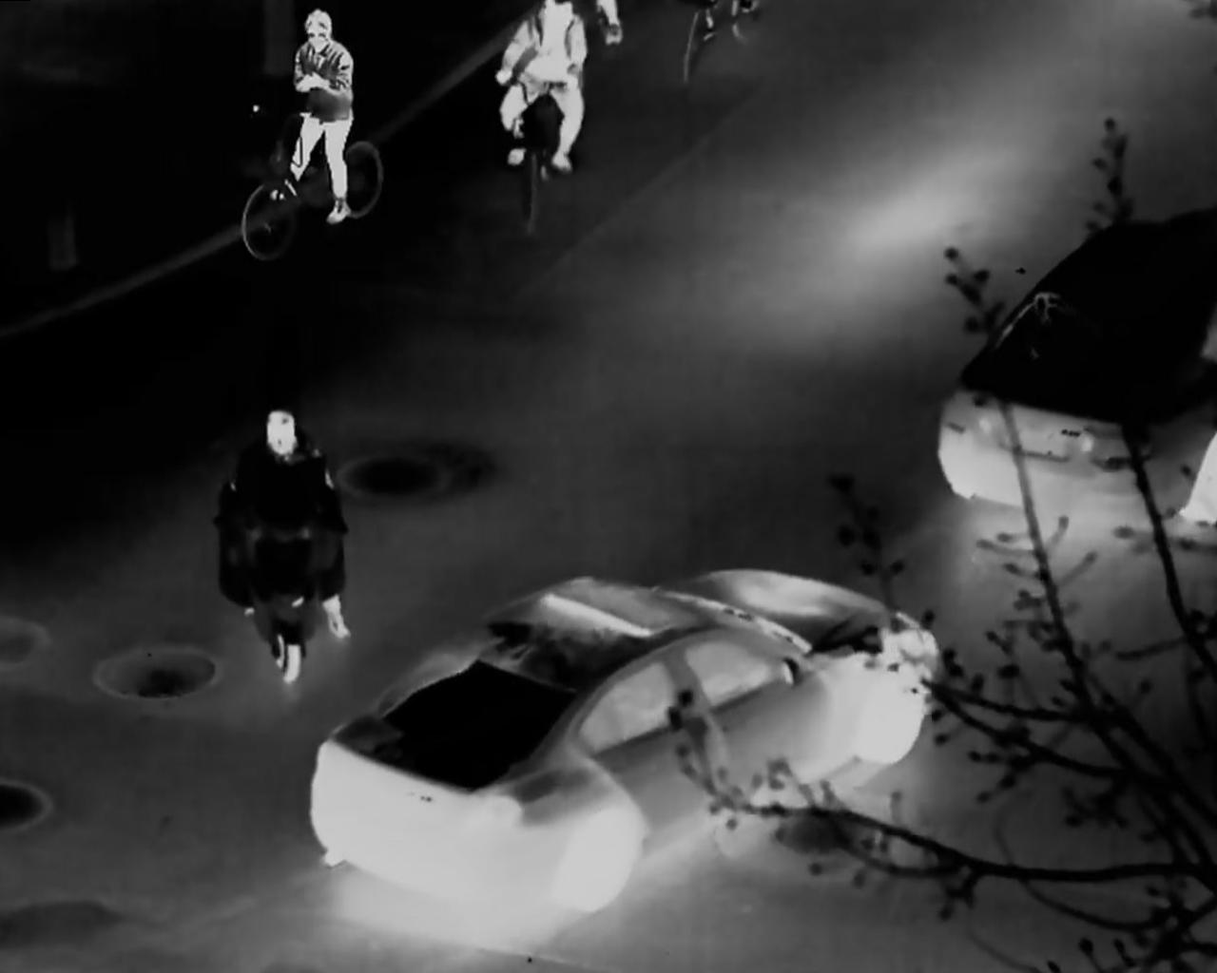person: (239, 411, 353, 639), (281, 8, 353, 223)
